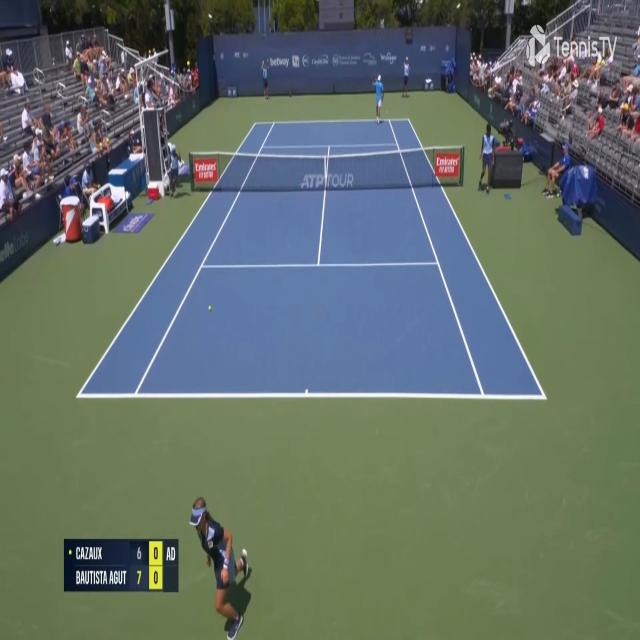tennis-player: (373, 71, 384, 125)
